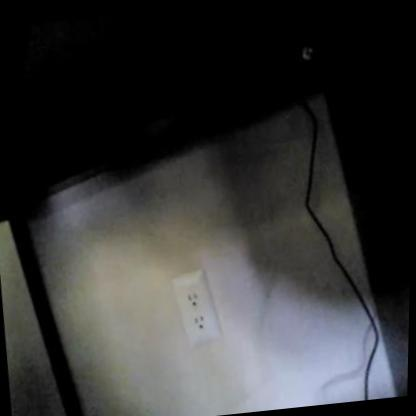OUTLET: (172, 266, 220, 346)
